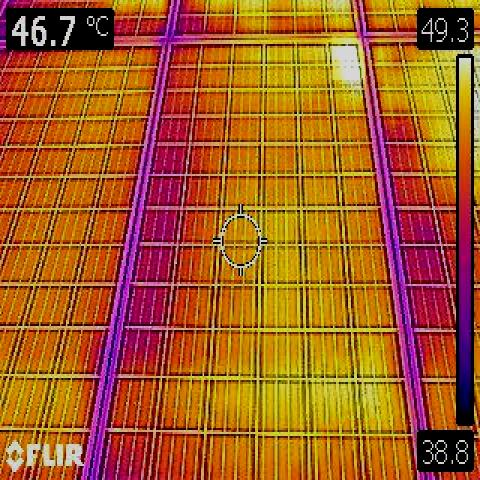fault: (332, 36, 365, 80)
